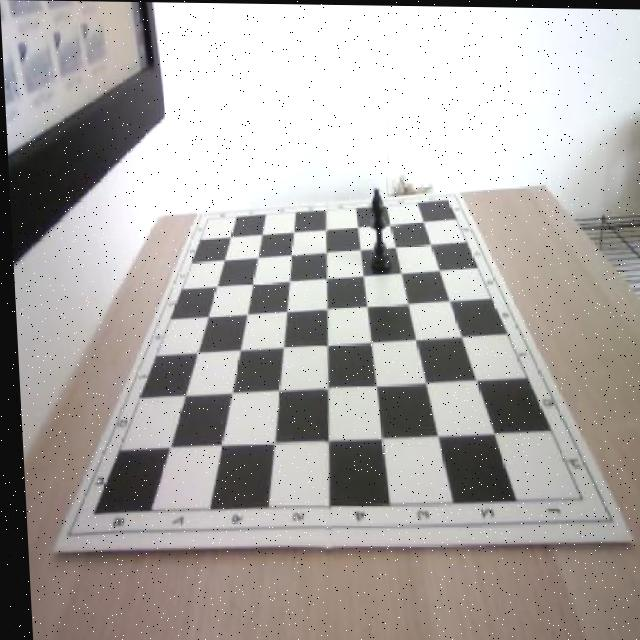bishop: (361, 187, 389, 271)
